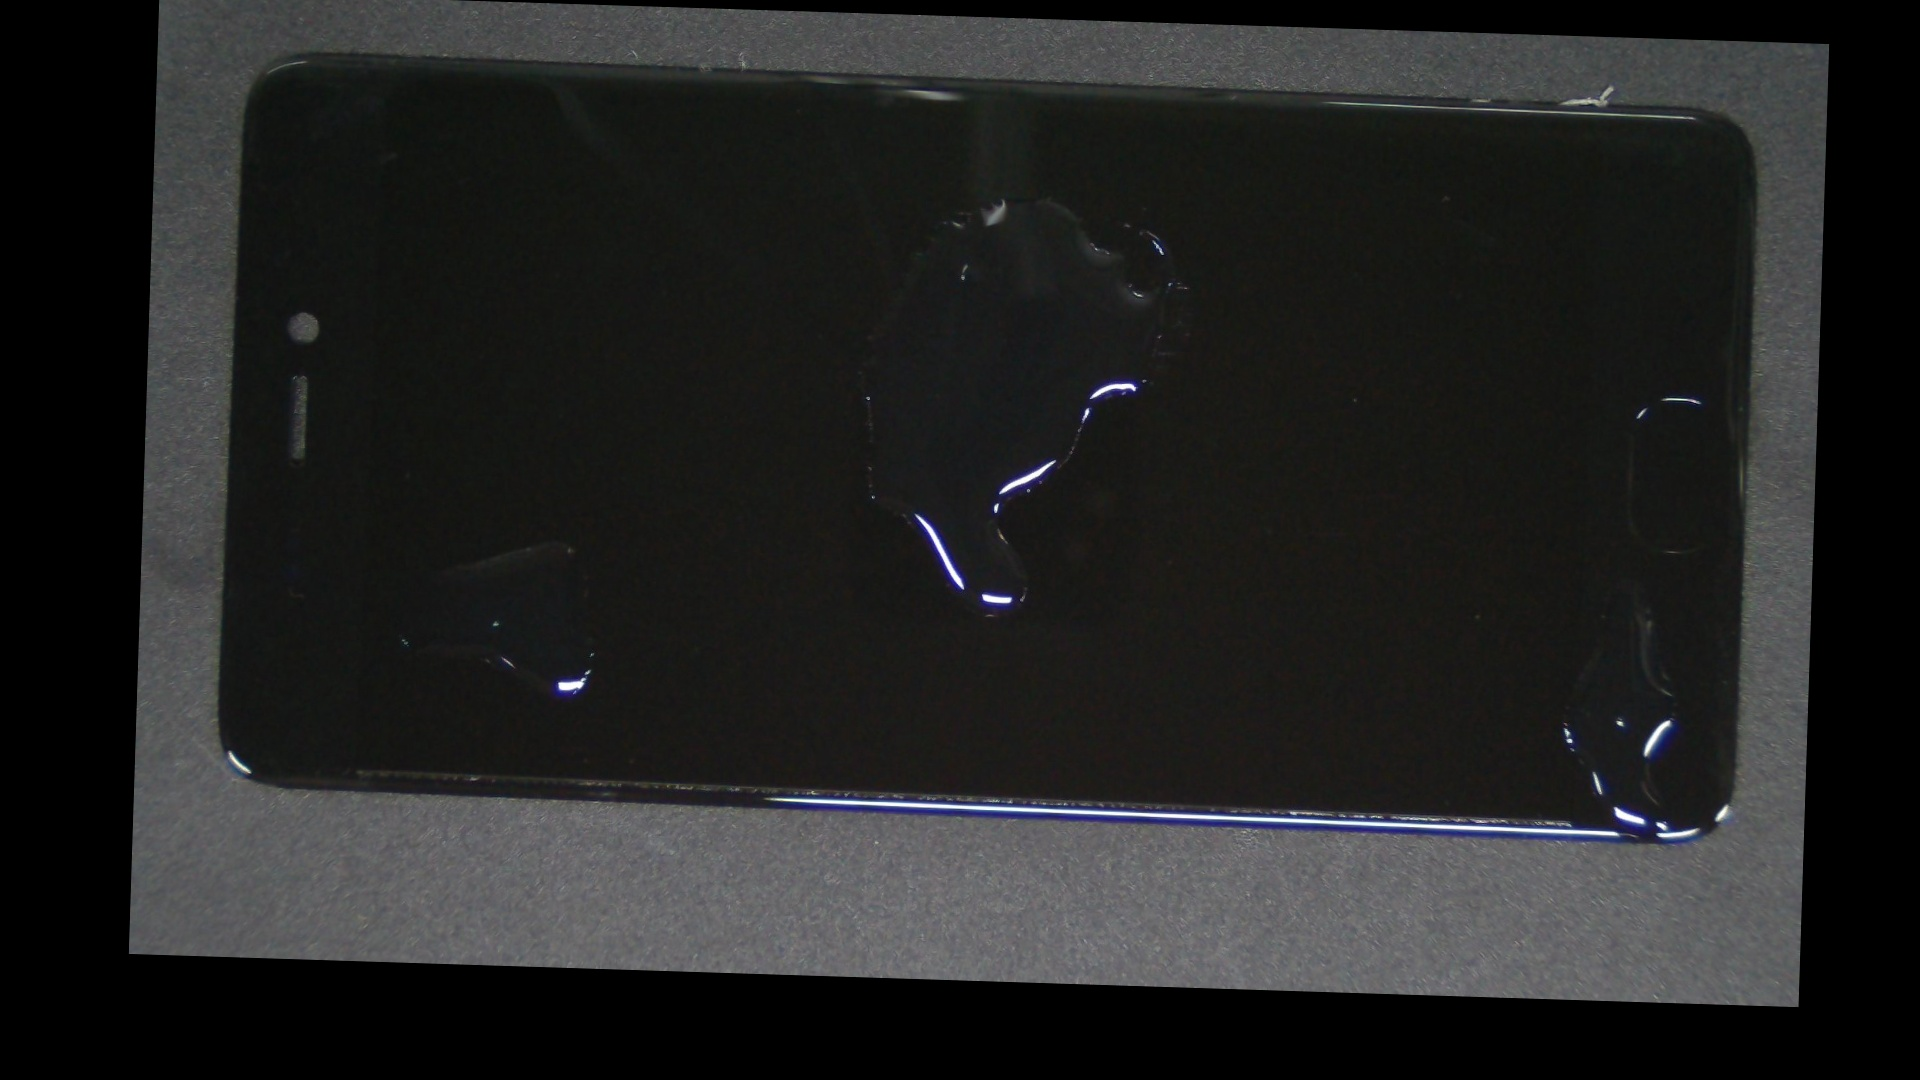oil: (876, 285, 1821, 855), (340, 266, 767, 818), (592, 94, 1480, 301)
